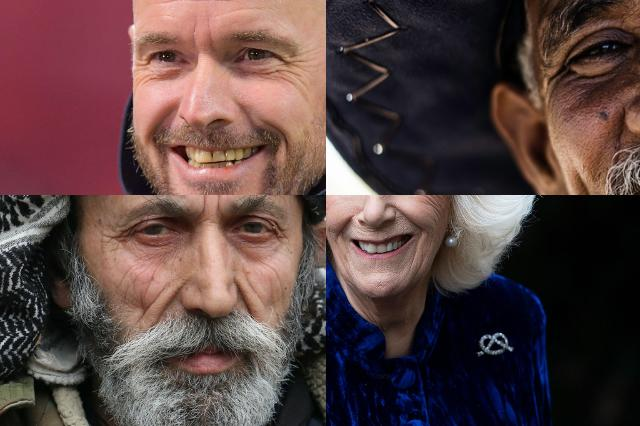chin: (410, 244, 424, 280)
crows_feet: (541, 58, 579, 90), (282, 50, 306, 82), (106, 223, 132, 249), (136, 58, 154, 83), (270, 224, 288, 249), (425, 195, 440, 205)
forehead: (195, 0, 227, 8), (161, 0, 190, 7)
frown_line: (187, 18, 201, 48), (211, 195, 225, 222), (195, 195, 210, 219), (204, 20, 216, 46)
gummy_smile: (152, 284, 182, 322), (233, 280, 255, 316), (148, 104, 174, 134), (398, 207, 427, 233), (612, 114, 628, 154), (332, 216, 356, 242)
masseter: (127, 289, 153, 323), (576, 173, 599, 195)
sad_smile: (267, 119, 293, 149)
smoker_lines: (359, 228, 387, 238)
